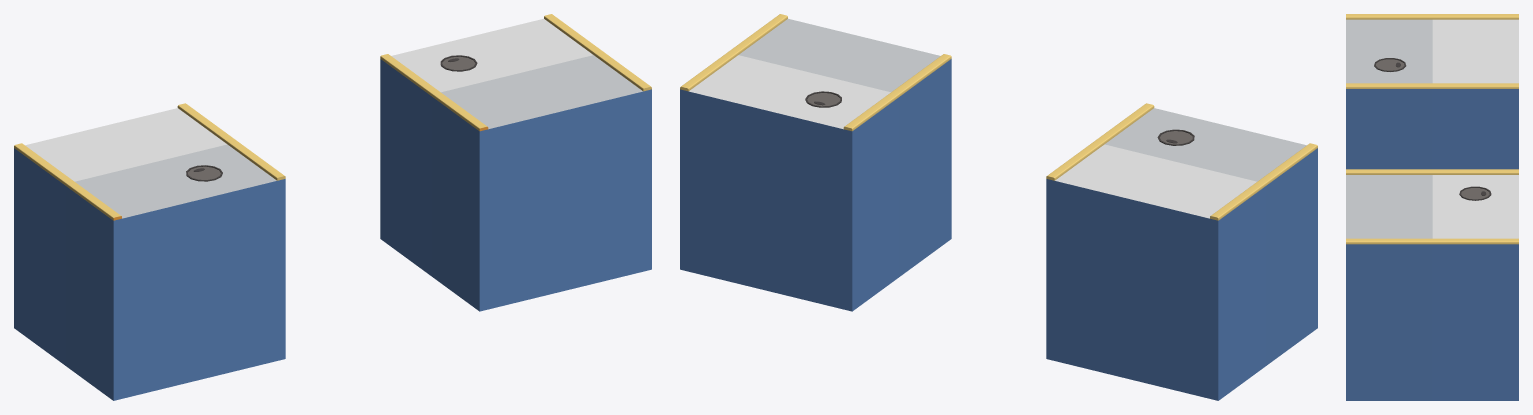
Rendered from engel2li.fbx.
3 renders of one model, left to right at view 1: azimuth 30°, elevation 25°; view 2: azimuth 150°, elevation 25°; view 3: azimuth 270°, elevation 25°, orthographic. The views are drawn at different scales.
Parts seen in each view (by area): view 1: zemin3, zemin4; view 2: zemin3, zemin4; view 3: zemin4, zemin3, polySurface1038, polySurface1039.
Part boxes in pixels (box(x1,y1,x2,y2)): zemin3: box(14, 103, 285, 400); zemin4: box(380, 14, 651, 311); zemin3: box(1046, 103, 1317, 400); zemin4: box(680, 14, 951, 311); zemin4: box(1346, 169, 1518, 400); zemin3: box(1346, 14, 1518, 169); polySurface1038: box(1459, 186, 1491, 200); polySurface1039: box(1374, 58, 1406, 71).
Bounding box in the file's own units: 2188 × 711 × 700.
1 material, 1 textured.
